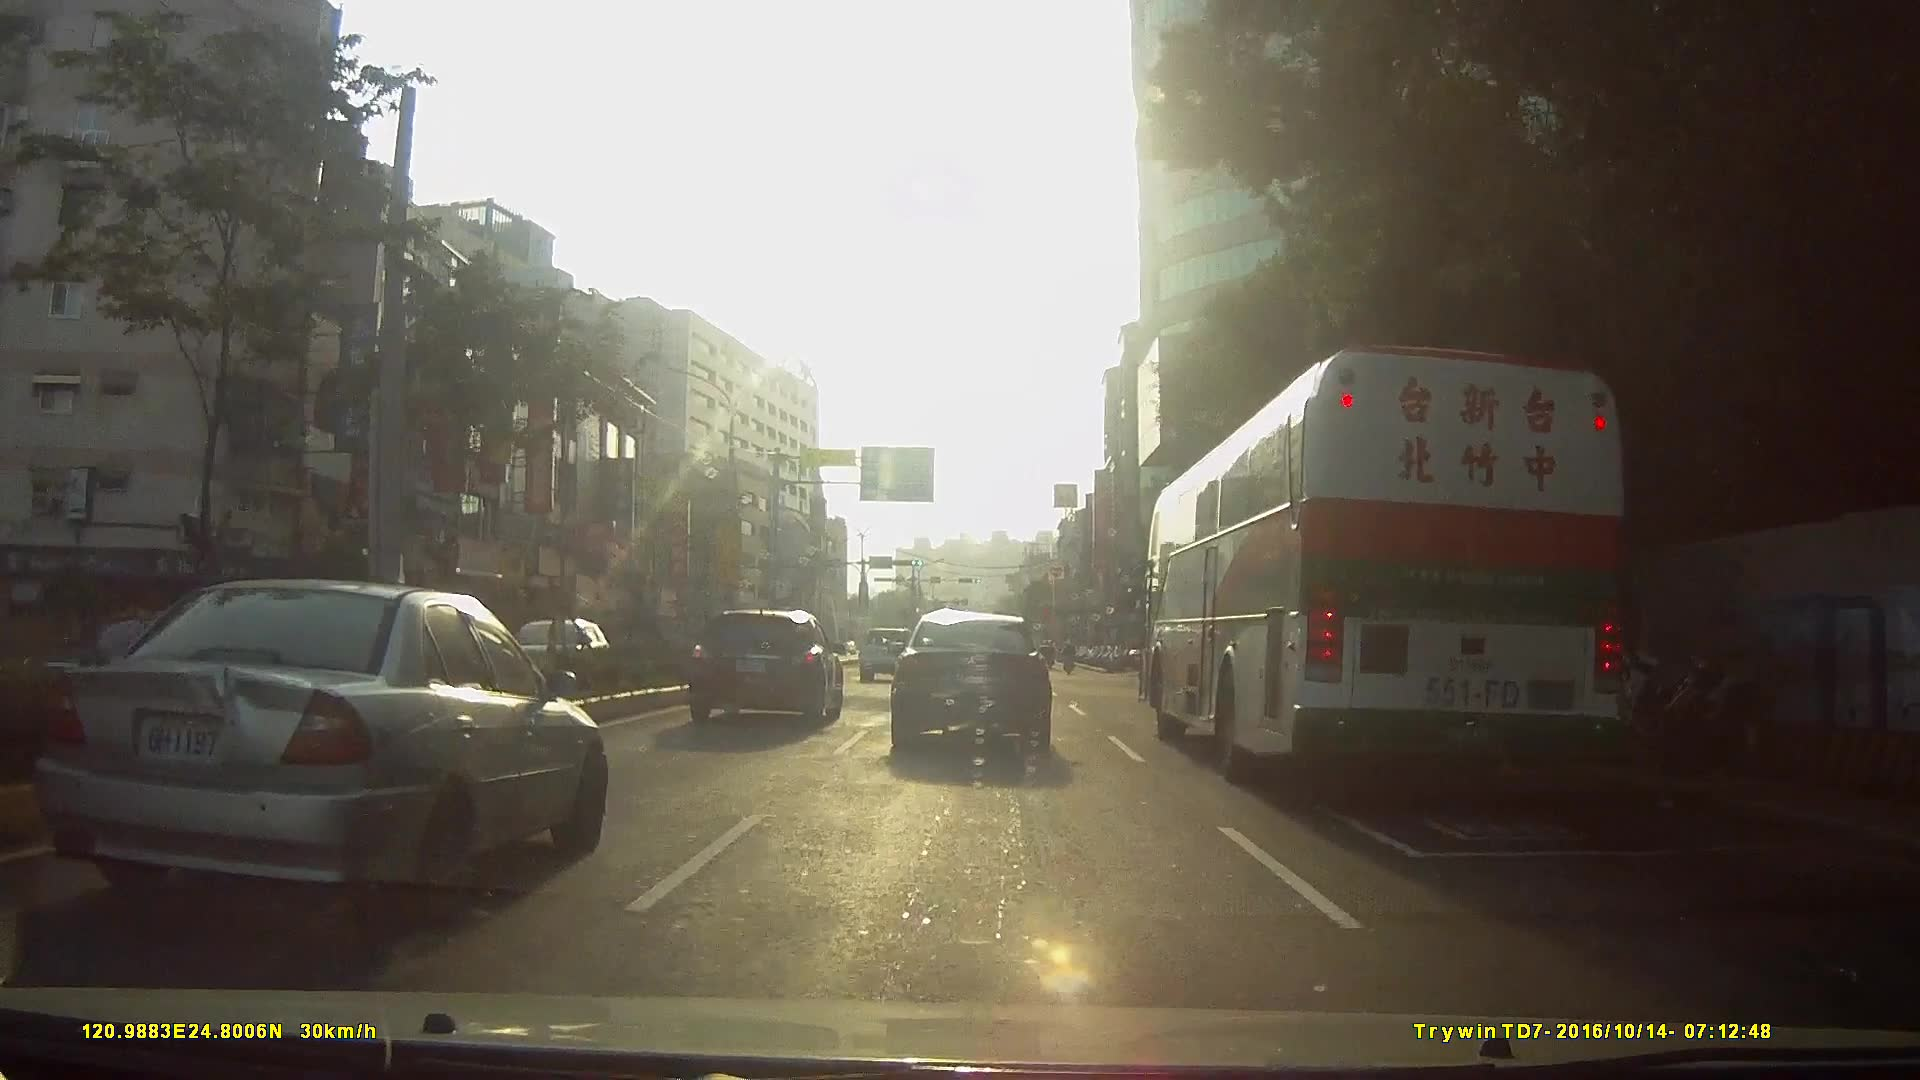vehicle: (1131, 306, 1689, 800), (26, 574, 607, 930), (887, 605, 1054, 753), (687, 608, 843, 727), (858, 625, 916, 683)
